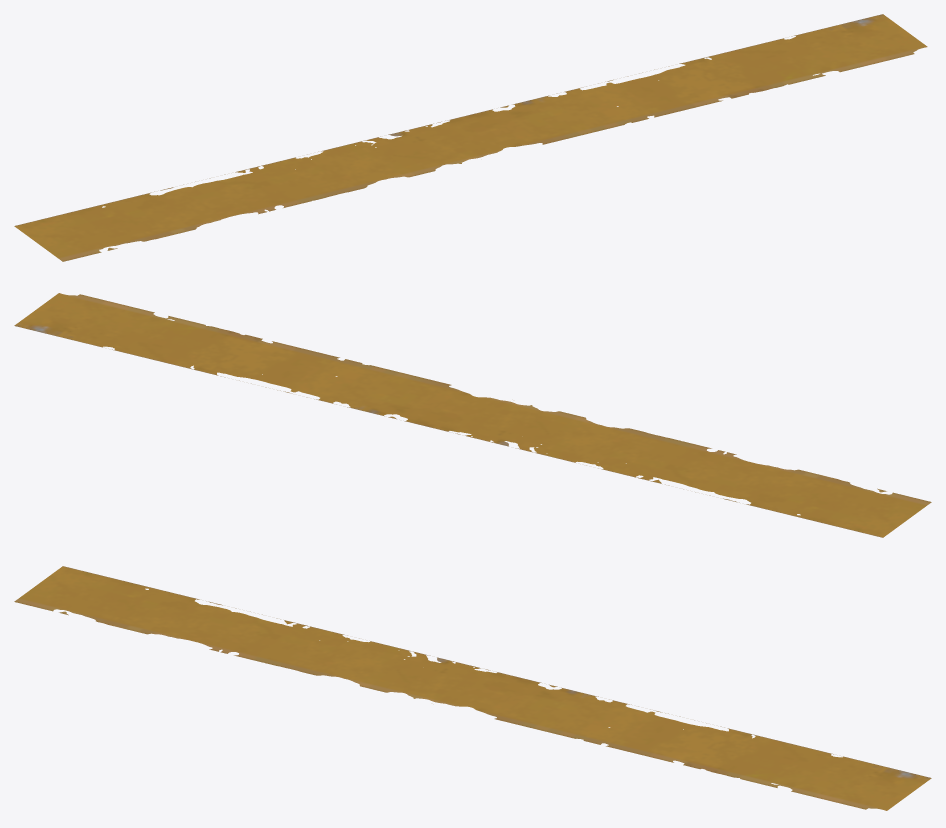
The model's file is SM_Stripe_Floor_01i.glb.
3 views of the same model, one above another, from view 1: azimuth 30°, elevation 25°; view 2: azimuth 150°, elevation 25°; view 3: azimuth 330°, elevation 25° (orthographic).
Visible parts, largest first — view 1: SM_Stripe_Floor_01i; view 2: SM_Stripe_Floor_01i; view 3: SM_Stripe_Floor_01i.
Boxes of the visible parts, x1,y1,x2,y2 form: SM_Stripe_Floor_01i: (14, 14, 927, 261); SM_Stripe_Floor_01i: (14, 293, 931, 537); SM_Stripe_Floor_01i: (14, 566, 931, 810).
Size of the model in its own units: 1 by 9.92e-07 by 0.0976.
1 material, 1 textured.
